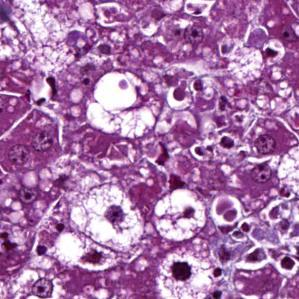ballooning: (69, 182, 147, 254), (84, 69, 161, 141), (150, 187, 209, 246), (156, 248, 215, 296)
